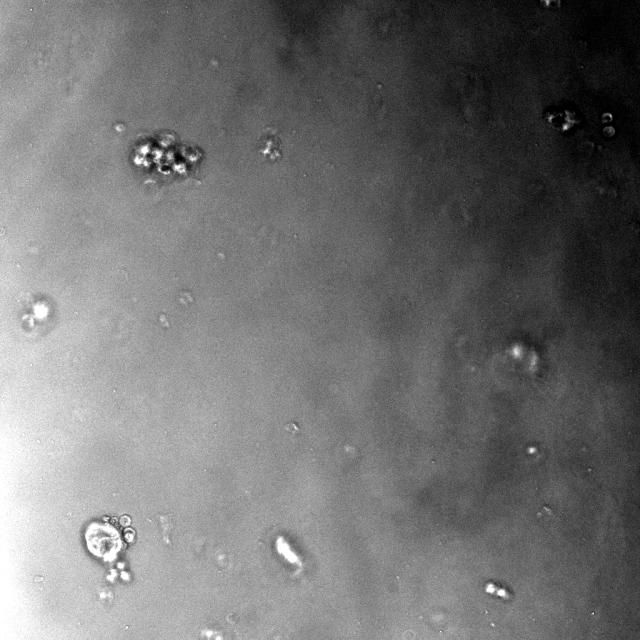organoid: (81, 514, 136, 588), (129, 130, 204, 179), (542, 101, 584, 135), (484, 581, 512, 601), (599, 111, 617, 138)
